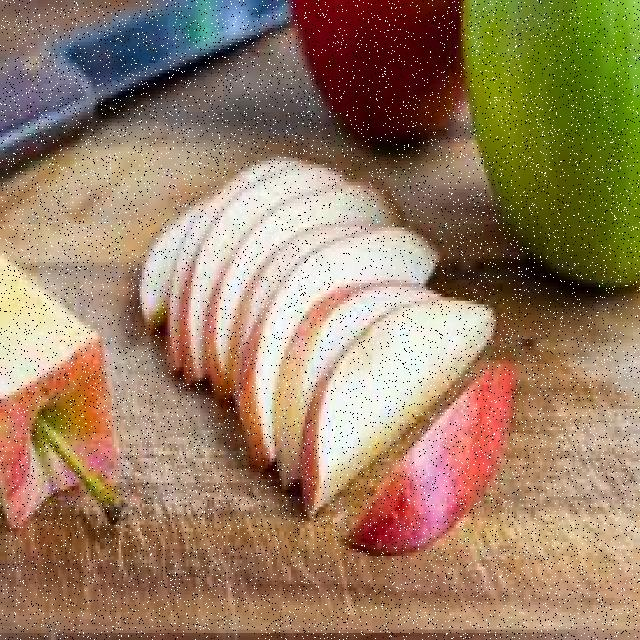Apple: (1, 254, 122, 580), (215, 223, 440, 397), (298, 310, 498, 468), (352, 372, 519, 536)
